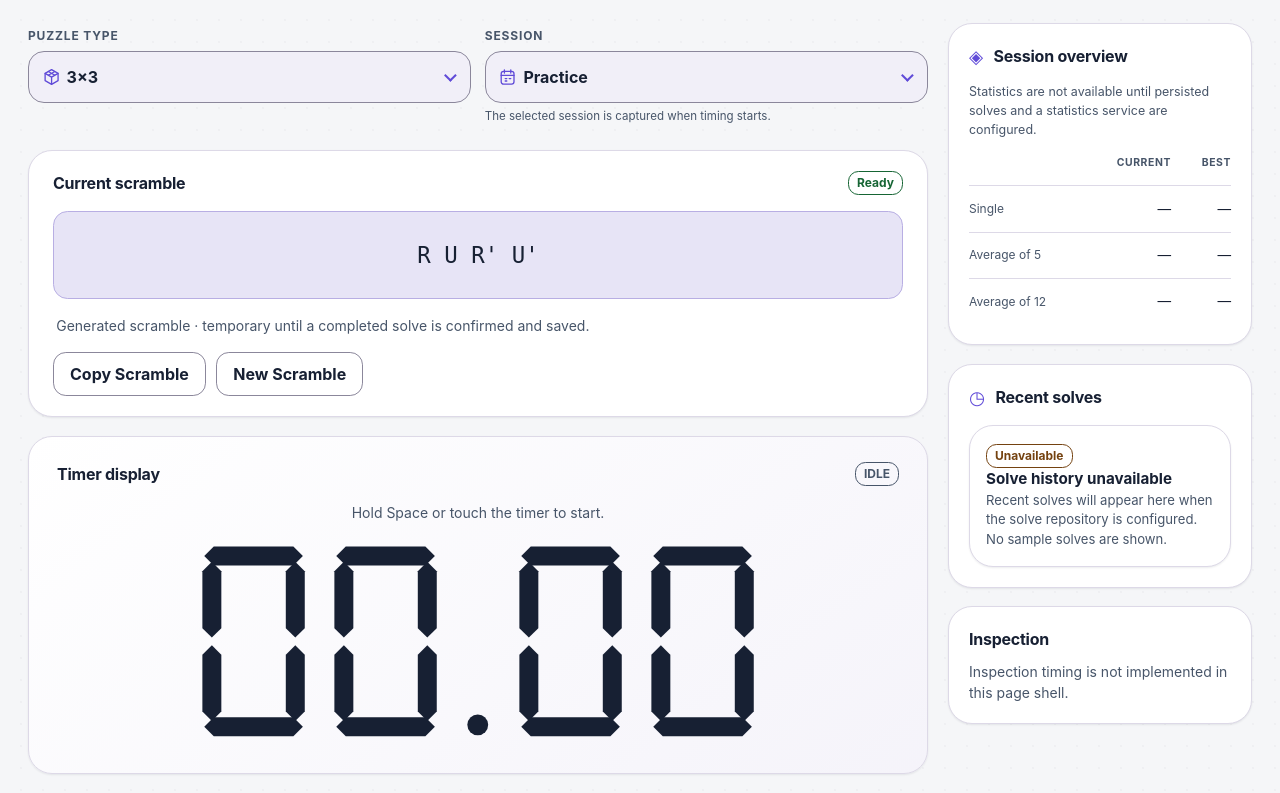
Test: timer-to-cloud-save slice › does not show Saved while the solve repository request is still pending
Press the mouse on the button named "Timer control": (478, 642) [191,539,765,744]
Wait 1450 ms
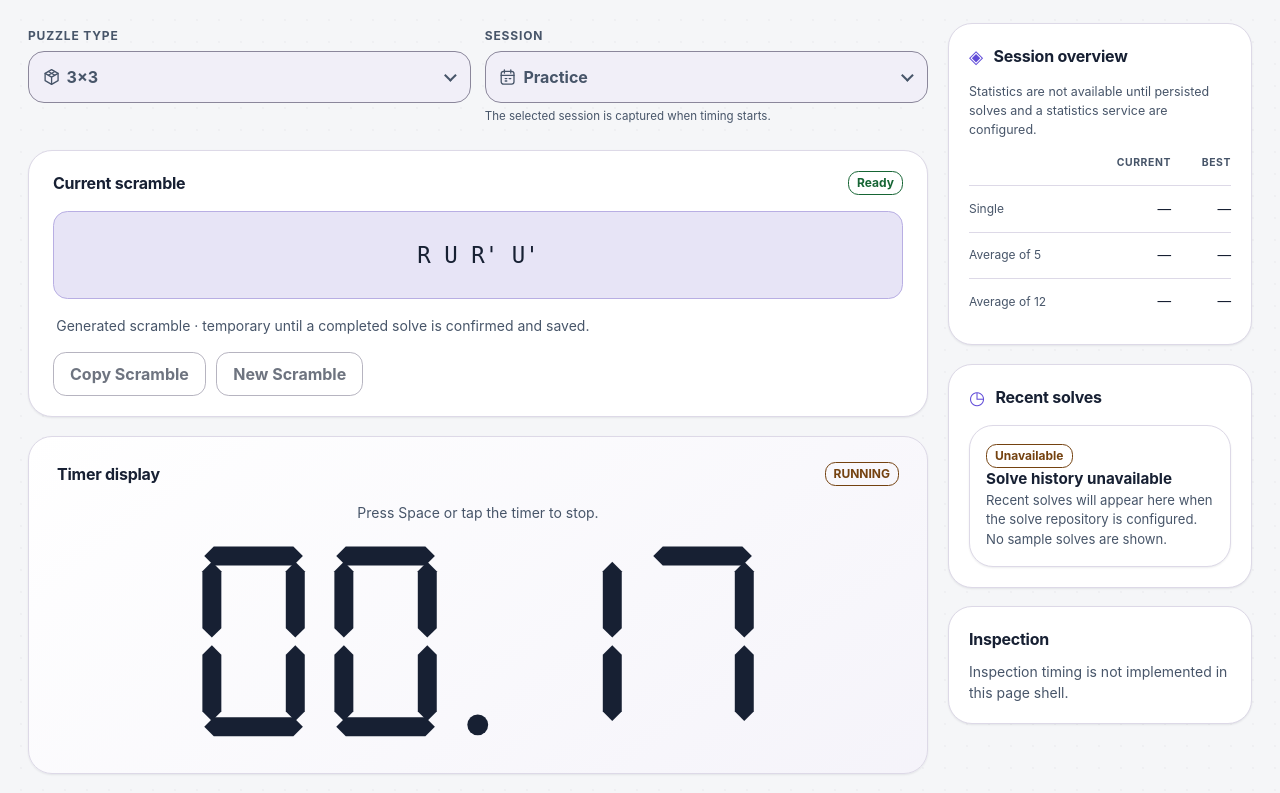
Press the mouse on the button named "Timer control": (478, 642) [191,539,765,744]
(page scrolled)
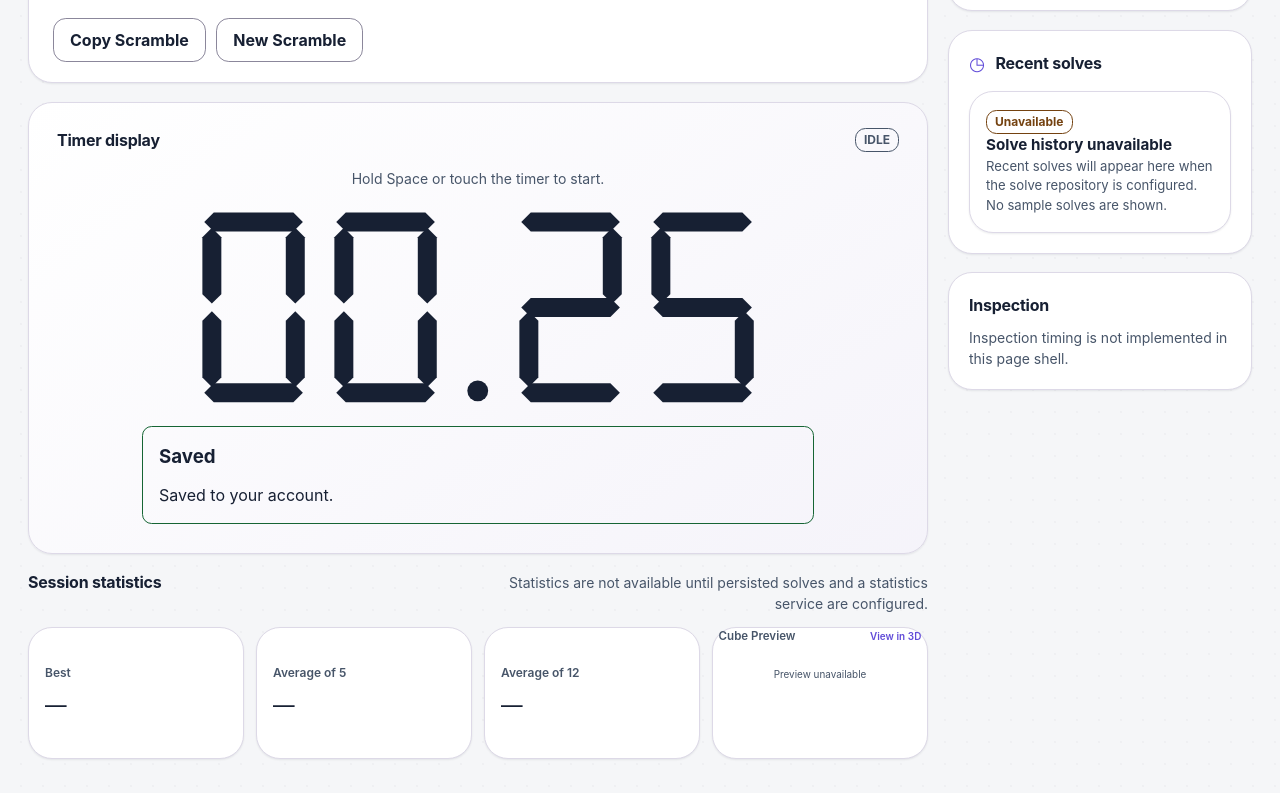
Expected: the heading "Saved" is shown, [159,445,216,468]
